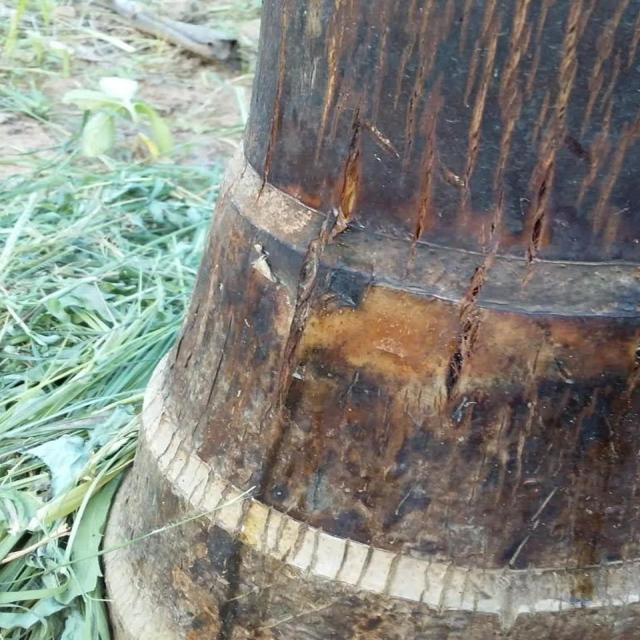Stem_Cracking: (151, 96, 548, 497)
